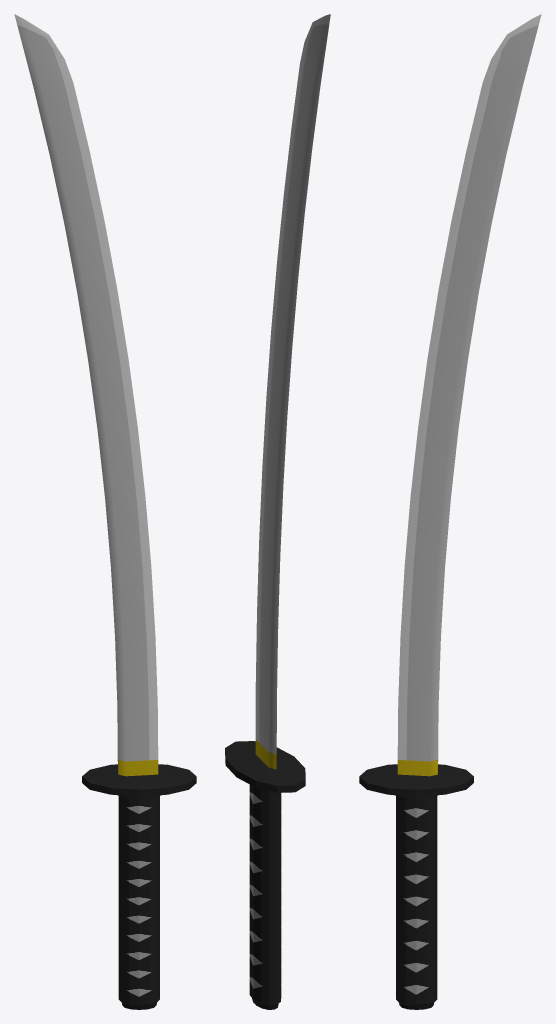
File: Katana.glb
3 renders of one model, left to right at view 1: azimuth 90°, elevation 25°; view 2: azimuth 210°, elevation 25°; view 3: azimuth 270°, elevation 25°, orthographic. The views are drawn at different scales.
Parts seen in each view (by area): view 1: Katana_Mesh; view 2: Katana_Mesh; view 3: Katana_Mesh.
Part boxes in pixels (x1,y1,x2,y2): Katana_Mesh: (14,14,196,1009); Katana_Mesh: (225,14,330,1009); Katana_Mesh: (359,14,541,1009).
Size of the model in its own units: 0.4429 by 7.63 by 1.27.
Materials: 1 (1 with a texture image).
